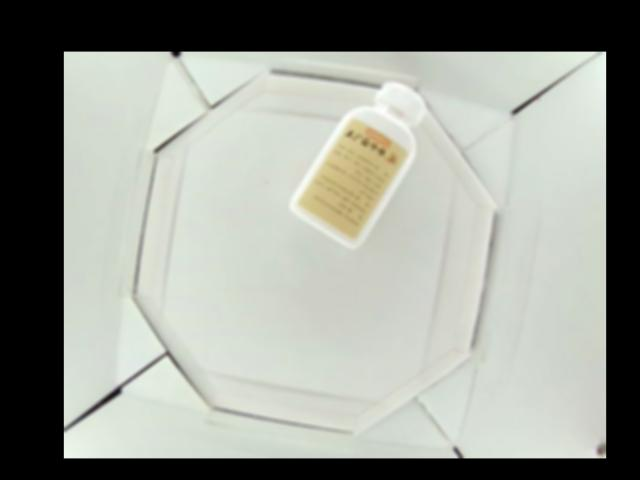Bottle: (290, 80, 424, 247)
